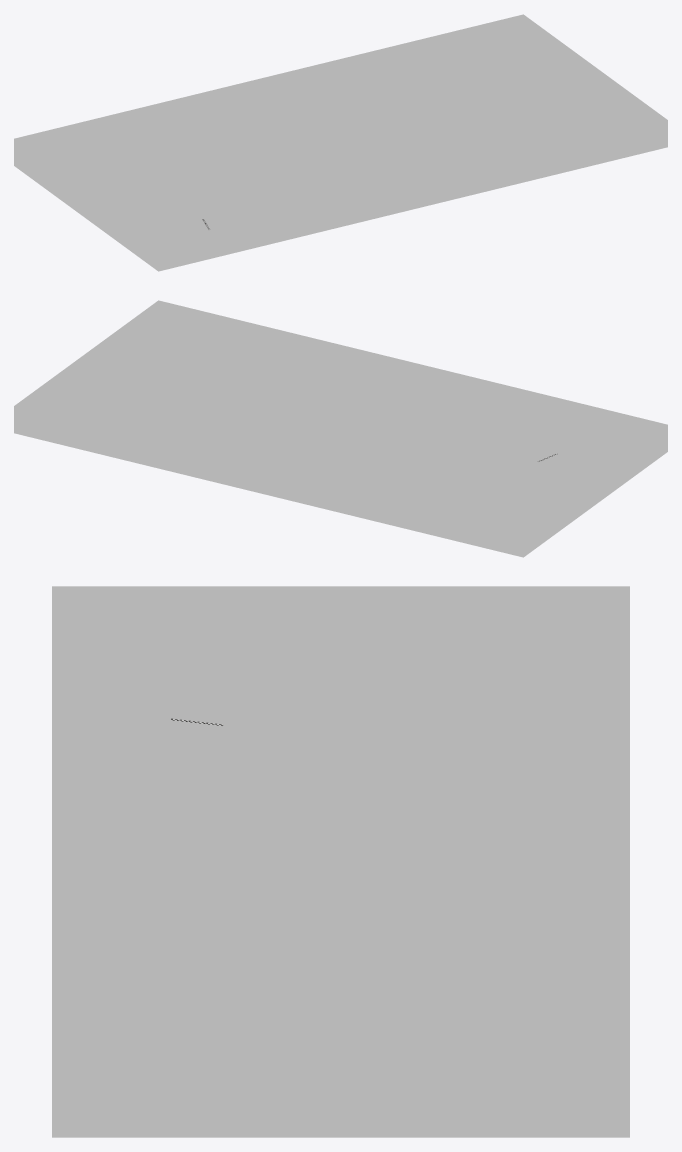
File: 2022_july_pro_ccw.dae
3 views of the same model, one above another, from view 1: azimuth 30°, elevation 25°; view 2: azimuth 150°, elevation 25°; view 3: azimuth 270°, elevation 25° (orthographic). The views are drawn at different scales.
Parts seen in each view (by area): view 1: field, wall, road, ol, il, cl; view 2: field, wall, road, ol, il, cl; view 3: field, road, wall, il, ol, cl.
Part boxes in pixels (bbox=[...]): field: bbox=[42, 41, 639, 244]; wall: bbox=[14, 14, 667, 271]; road: bbox=[89, 80, 613, 234]; ol: bbox=[116, 92, 586, 223]; il: bbox=[87, 79, 615, 235]; cl: bbox=[102, 86, 599, 229]; field: bbox=[42, 327, 639, 530]; wall: bbox=[14, 300, 667, 557]; road: bbox=[125, 352, 596, 525]; ol: bbox=[152, 364, 569, 517]; il: bbox=[123, 352, 598, 525]; cl: bbox=[138, 358, 583, 521]; field: bbox=[52, 640, 629, 1083]; road: bbox=[102, 661, 579, 1083]; wall: bbox=[52, 586, 629, 1137]; il: bbox=[97, 659, 583, 1083]; ol: bbox=[157, 684, 524, 1083]; cl: bbox=[129, 673, 552, 1083].
Size of the model in its own units: 19.63 by 9.64 by 1.
